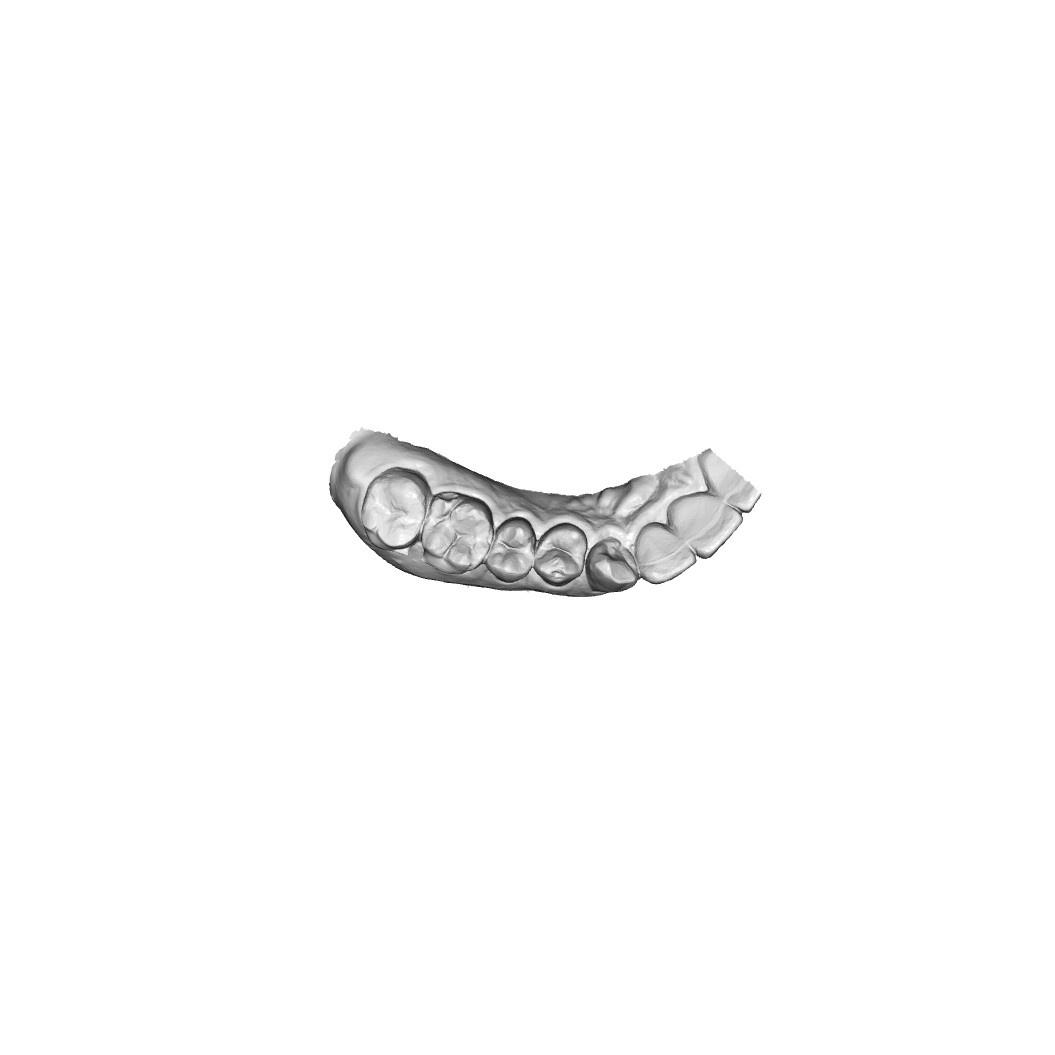canine: (585, 536, 639, 594)
incisor: (666, 491, 744, 559), (634, 521, 697, 585)
molar: (359, 466, 434, 552), (420, 490, 495, 576)
premolar: (533, 521, 589, 587), (484, 516, 537, 584)
